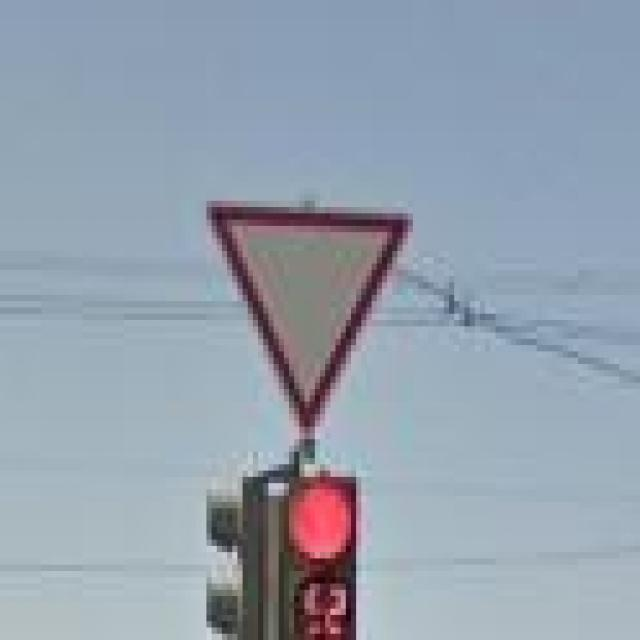traffic_sign: (206, 201, 413, 433)
